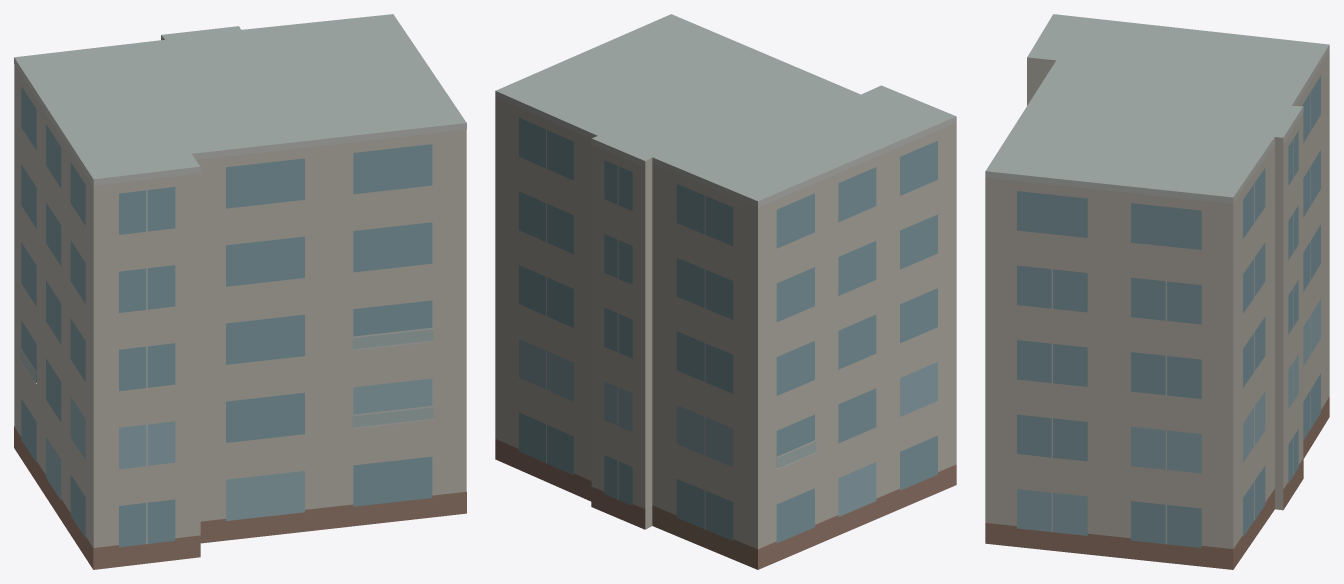
File: survey-upis-32587584.glb
The picture shows the model from 3 angles, left to right: view 1: azimuth 30°, elevation 25°; view 2: azimuth 150°, elevation 25°; view 3: azimuth 270°, elevation 25°; orthographic projection. The views are drawn at different scales.
Parts seen in each view (by area): view 1: survey-upis-32587584.tmp; view 2: survey-upis-32587584.tmp; view 3: survey-upis-32587584.tmp.
Boxes of the visible parts, x1,y1,x2,y2 form: survey-upis-32587584.tmp: [14, 14, 466, 569]; survey-upis-32587584.tmp: [495, 14, 956, 569]; survey-upis-32587584.tmp: [985, 14, 1329, 569].
Bounding box in the file's own units: 15.12 × 14.3 × 11.99.
